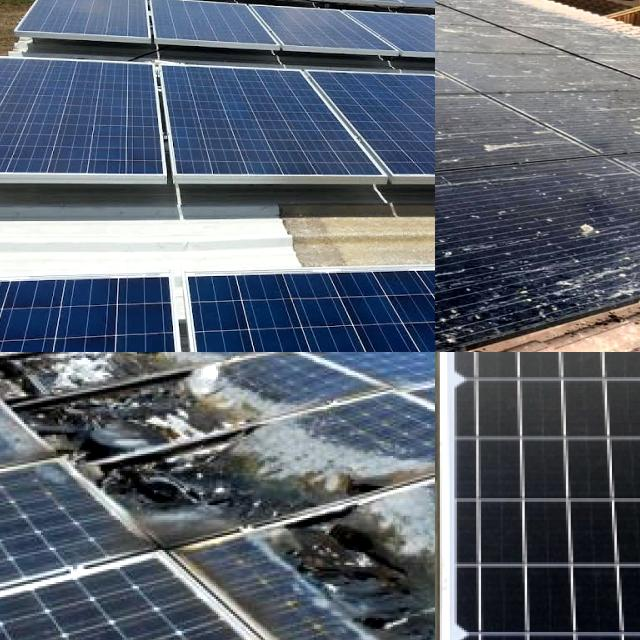bird: (435, 88, 488, 177), (464, 122, 496, 173), (567, 209, 604, 248)
crack: (441, 352, 640, 640), (146, 46, 390, 224), (0, 47, 180, 208), (291, 43, 435, 226), (0, 265, 274, 352), (242, 0, 414, 75), (138, 0, 291, 63), (11, 0, 159, 56), (341, 0, 435, 84)
dust: (435, 220, 563, 352), (552, 72, 640, 177), (435, 5, 544, 67)
shadow: (131, 410, 304, 538), (262, 523, 435, 636), (70, 368, 216, 472), (16, 352, 131, 429), (308, 451, 434, 513), (0, 352, 68, 395), (222, 385, 255, 428), (131, 352, 189, 376)
